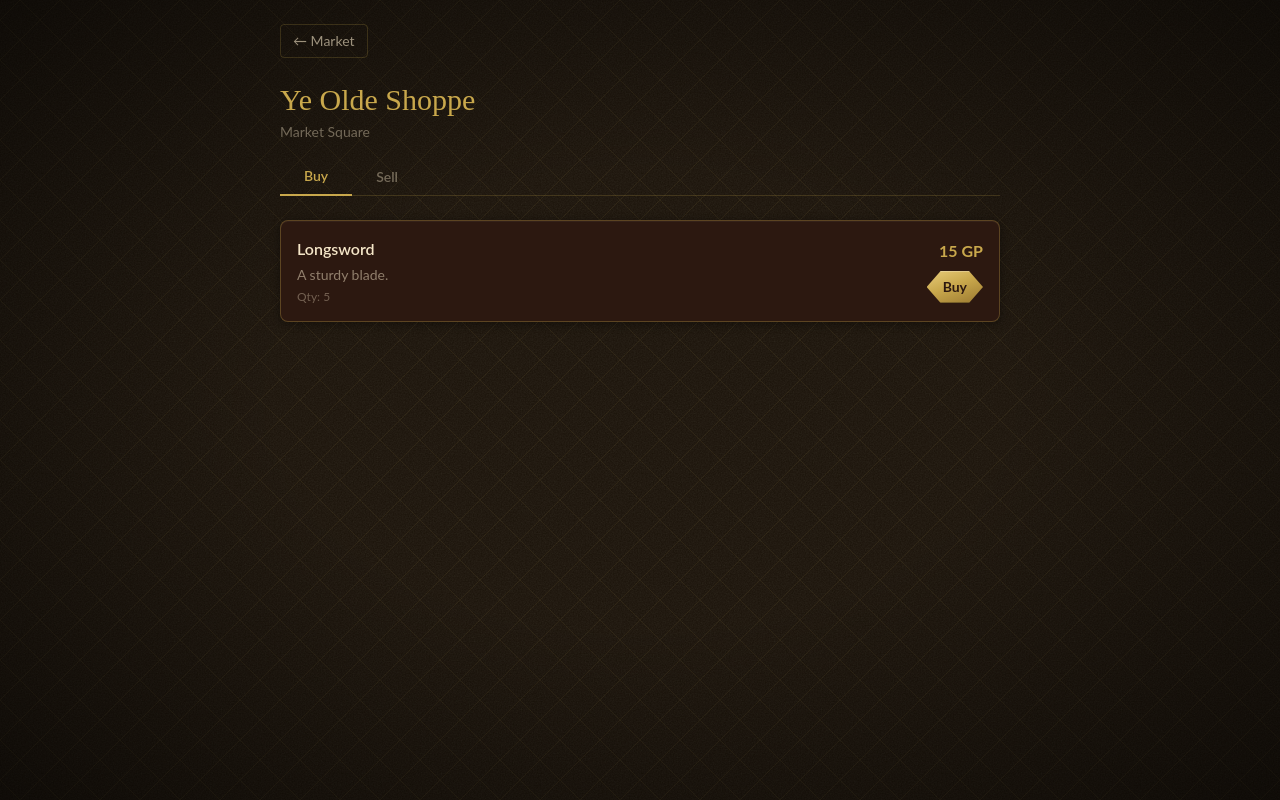
Test: StoreDetailPage — Buy tab › cancelling the buy modal closes it
Click the button "Buy" below "15 GP".
click(955, 287)  # box [927,271,983,303]
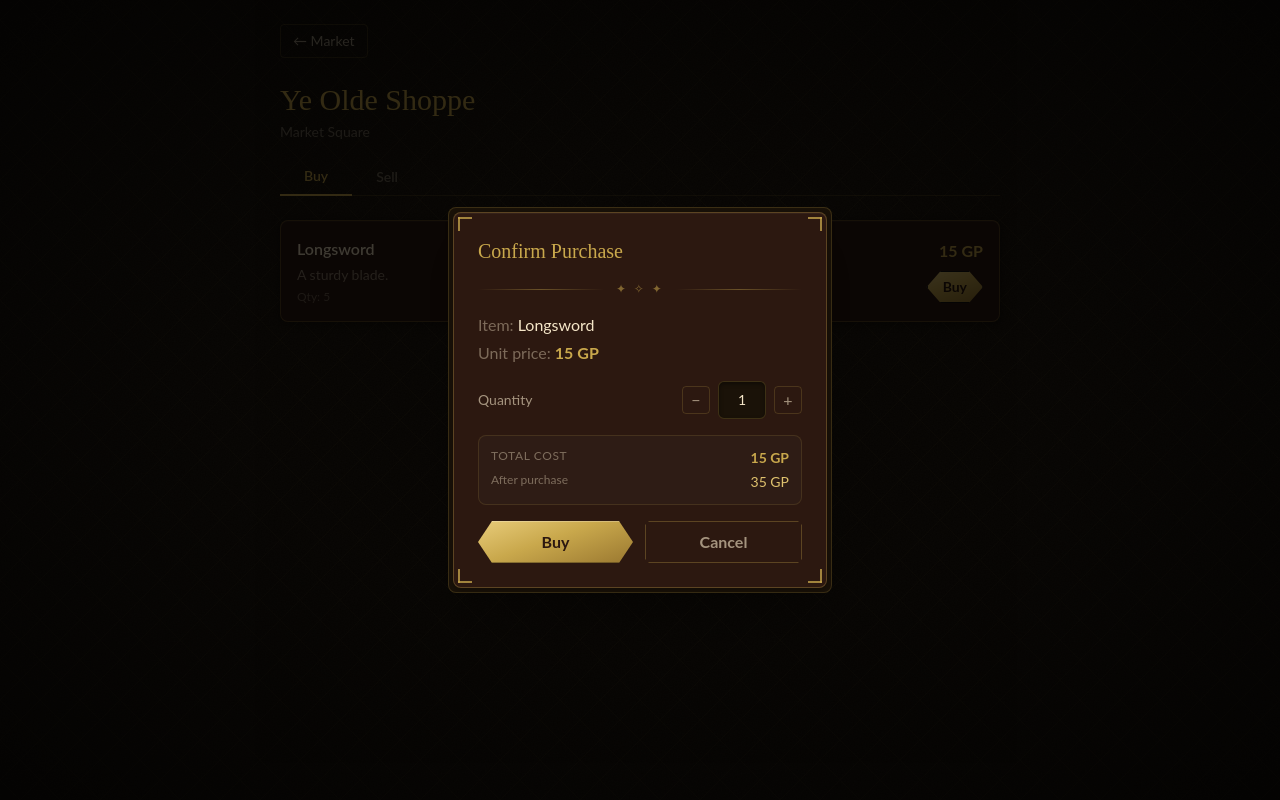
Expected: the heading "Confirm Purchase" is shown, [478,240,623,262]
Click the button "Cancel".
click(724, 542)  # box [645,521,802,563]
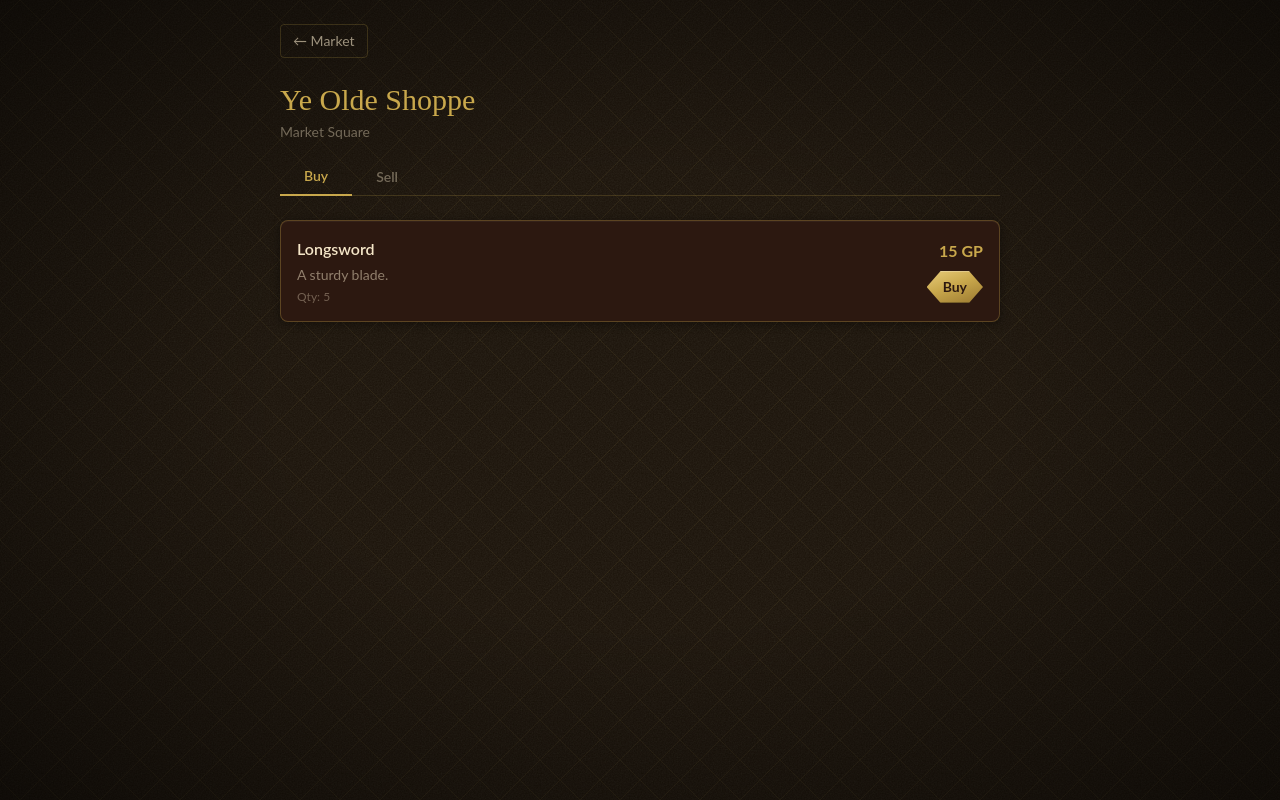
Expected: the heading "Confirm Purchase" is gone
